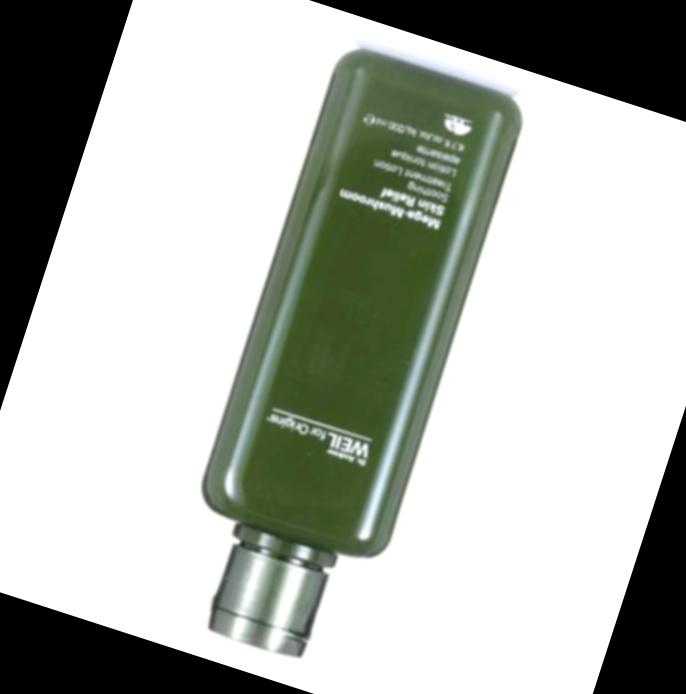cosmetic: (153, 36, 535, 683)
